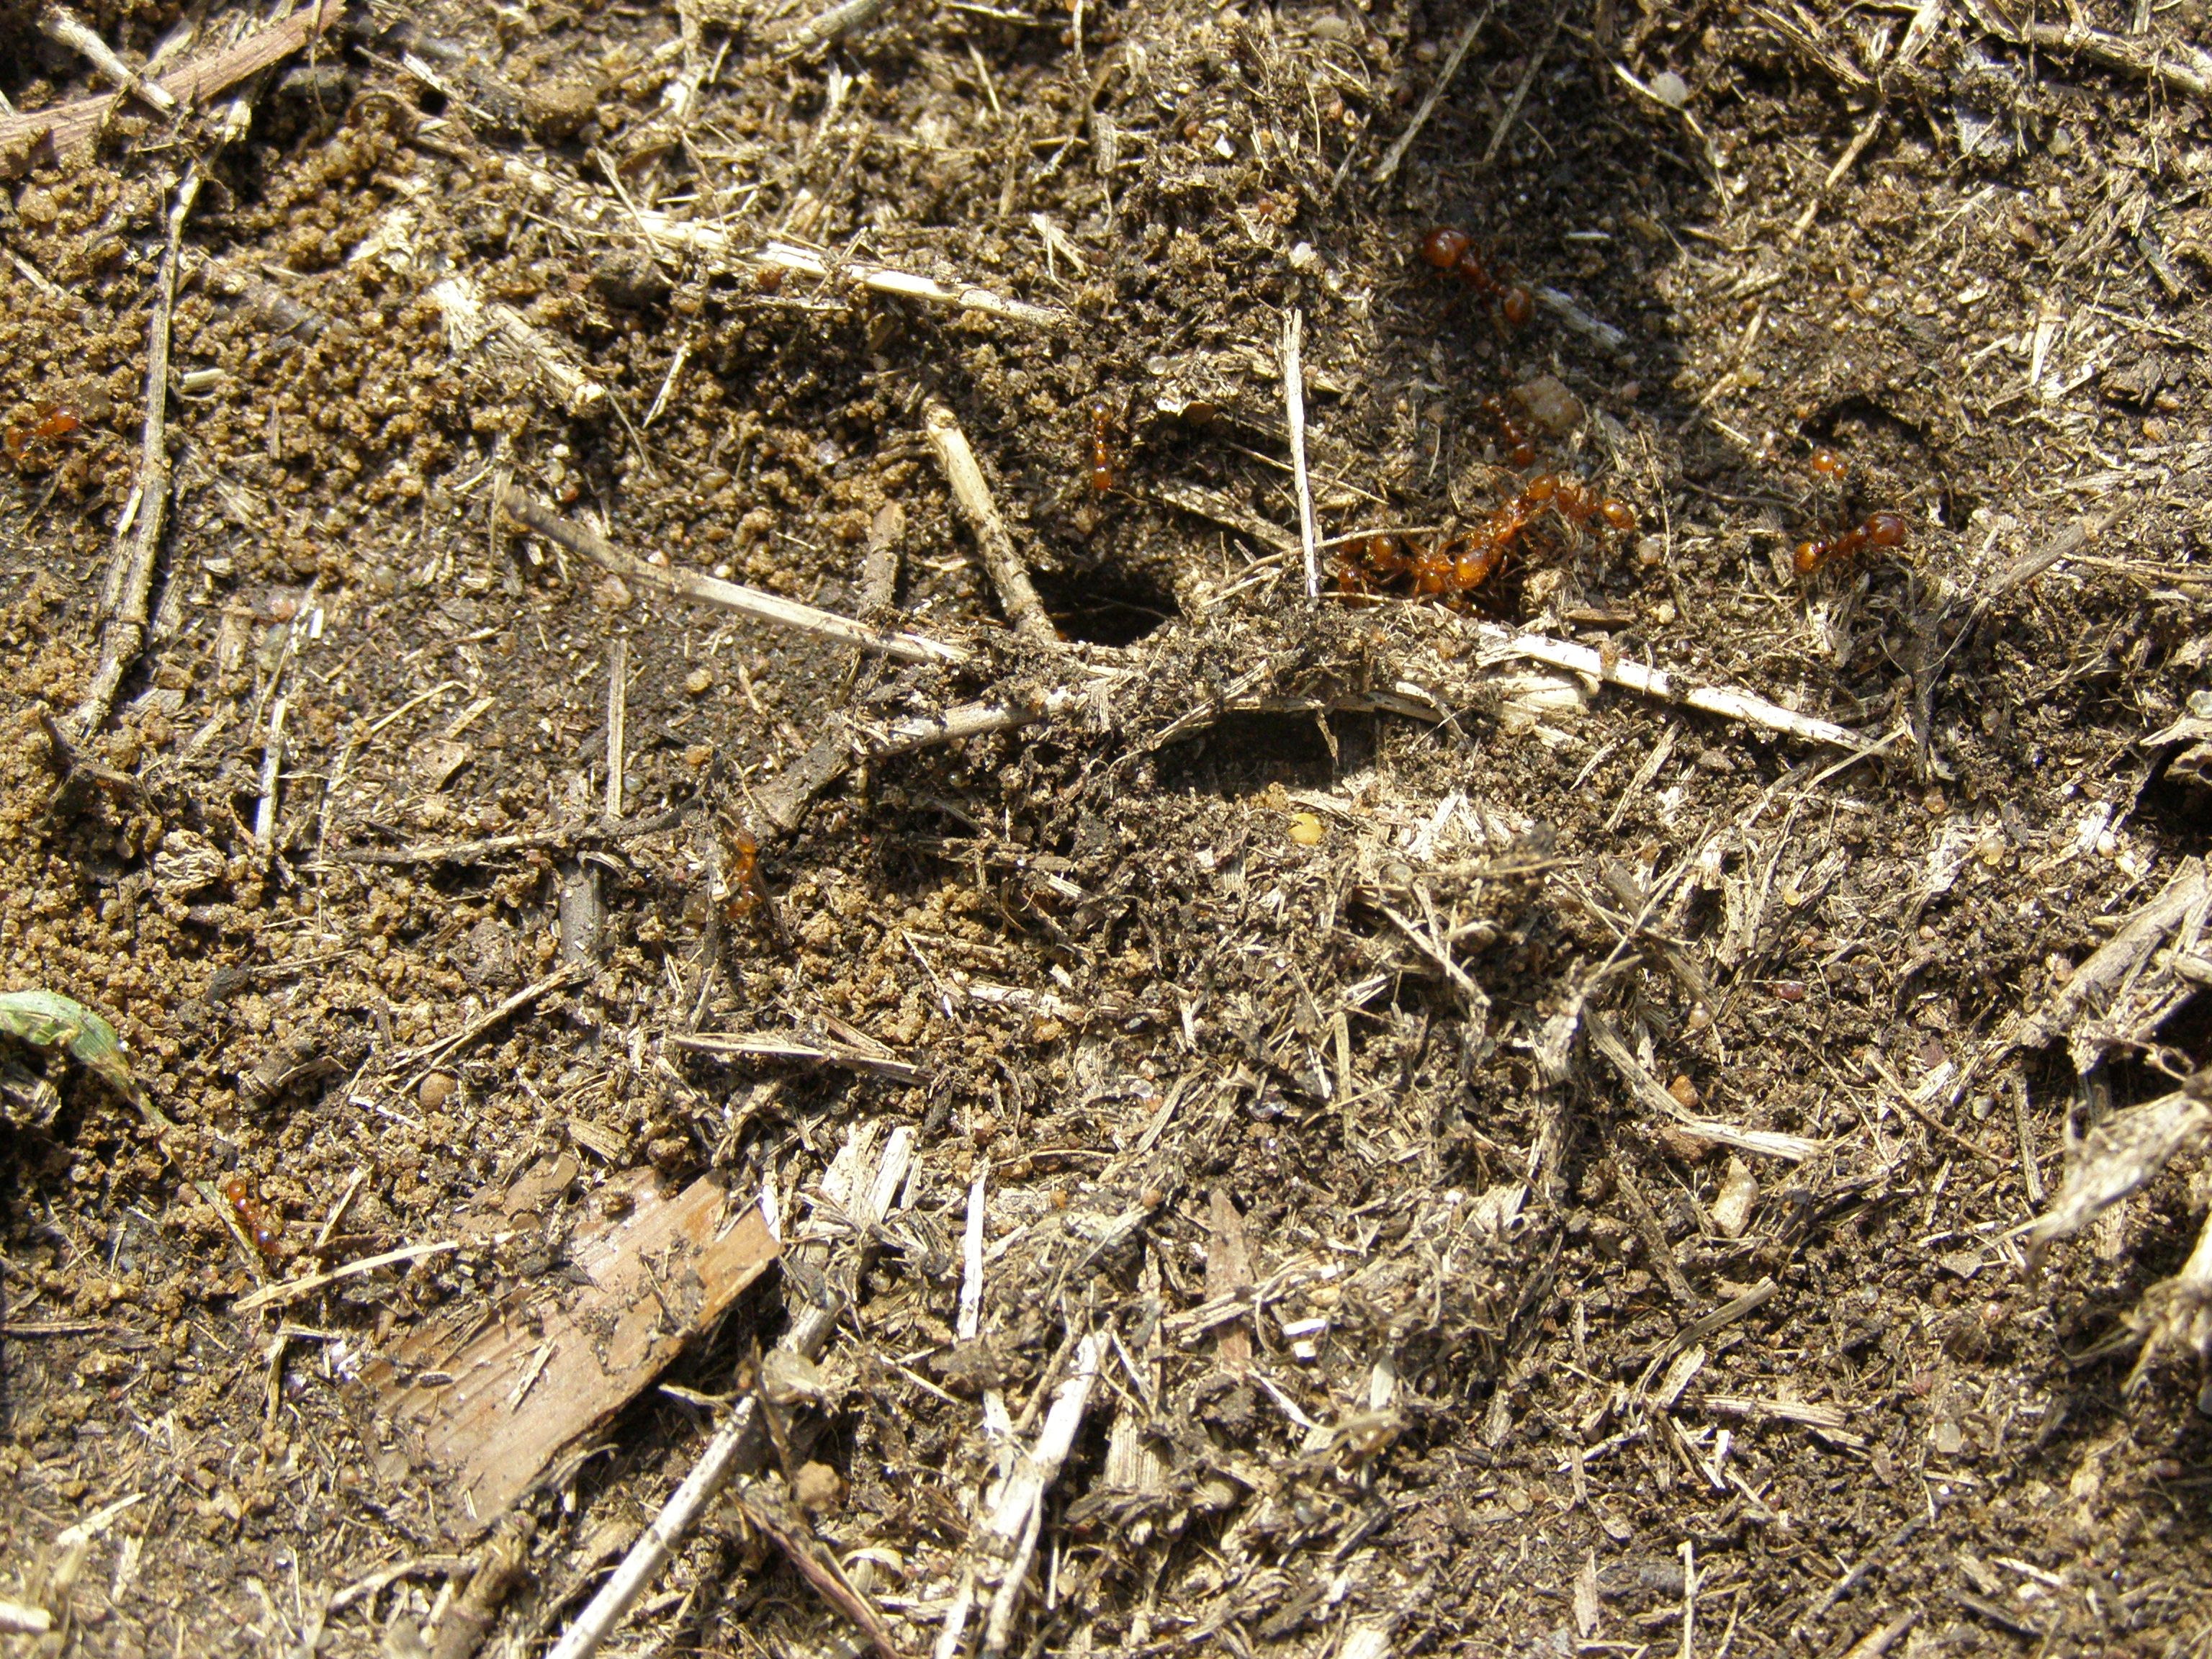Solenopsis_geminata: (1388, 176, 1571, 378), (1766, 483, 1939, 619), (0, 368, 111, 507), (1453, 364, 1552, 472)
